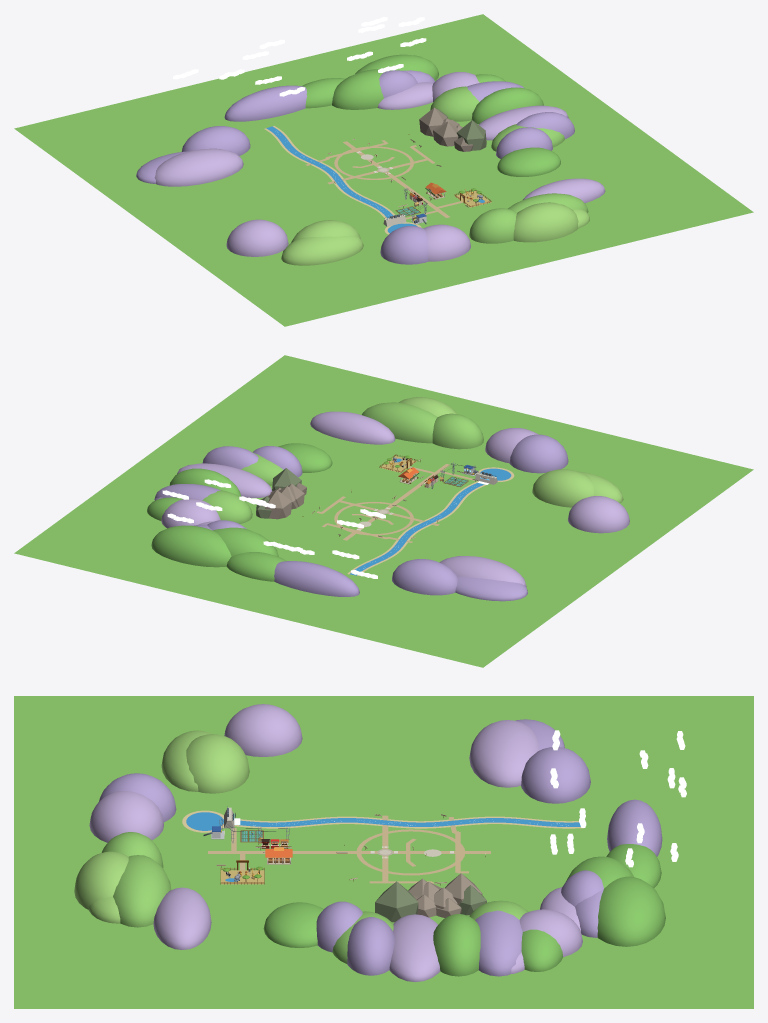
Rendered from terrain.glb.
3 renders of one model, top to bottom at view 1: azimuth 30°, elevation 25°; view 2: azimuth 150°, elevation 25°; view 3: azimuth 270°, elevation 25°, orthographic. The views are drawn at different scales.
Parts seen in each view (by area): view 1: ground, Sphere.006, Sphere.022, Sphere.001, Sphere.031, Sphere.029, Sphere.014, Sphere.023, Sphere.018, Sphere.017, Sphere.003, Sphere.030 (+18 smaller); view 2: ground, Sphere.005, Sphere.001, Sphere.028, Sphere.024, Sphere.003, Sphere.029, Sphere.025, Sphere.023, Sphere.030, Sphere.006, Sphere.013 (+17 smaller); view 3: ground, Sphere.005, Sphere.006, Sphere.029, Sphere.003, Sphere.025, Sphere.028, Sphere.024, Sphere.027, Sphere.020, Sphere.017, Sphere.008 (+24 smaller).
Part boxes in pixels (box(x1,y1,x2,y2)): ground: box(14, 14, 753, 326); Sphere.006: box(154, 148, 243, 186); Sphere.022: box(513, 202, 578, 242); Sphere.001: box(224, 85, 307, 121); Sphere.031: box(281, 235, 363, 265); Sphere.029: box(226, 219, 288, 256); Sphere.014: box(332, 69, 389, 109); Sphere.023: box(380, 226, 428, 264); Sphere.018: box(497, 147, 560, 176); Sphere.017: box(471, 87, 543, 124); Sphere.003: box(181, 126, 250, 155); Sphere.030: box(469, 208, 516, 243); ground: box(14, 355, 753, 667); Sphere.005: box(151, 525, 231, 567); Sphere.001: box(274, 561, 359, 596); Sphere.028: box(362, 402, 437, 443); Sphere.024: box(310, 411, 395, 444); Sphere.003: box(392, 559, 457, 595); Sphere.029: box(568, 496, 629, 533); Sphere.025: box(532, 469, 594, 507); Sphere.023: box(509, 434, 568, 473); Sphere.030: box(432, 413, 483, 449); Sphere.006: box(439, 556, 526, 587); Sphere.013: box(455, 576, 527, 601); ground: box(14, 696, 753, 1008); Sphere.005: box(597, 876, 665, 946); Sphere.006: box(469, 720, 539, 787); Sphere.029: box(224, 704, 302, 756); Sphere.003: box(521, 747, 590, 803); Sphere.025: box(186, 734, 249, 793); Sphere.028: box(113, 855, 171, 927); Sphere.024: box(153, 887, 211, 949); Sphere.027: box(89, 791, 163, 842); Sphere.020: box(389, 914, 440, 981); Sphere.017: box(433, 914, 480, 976); Sphere.008: box(475, 910, 522, 976).
Bounding box in the file's own units: 220 × 37.39 × 220.
